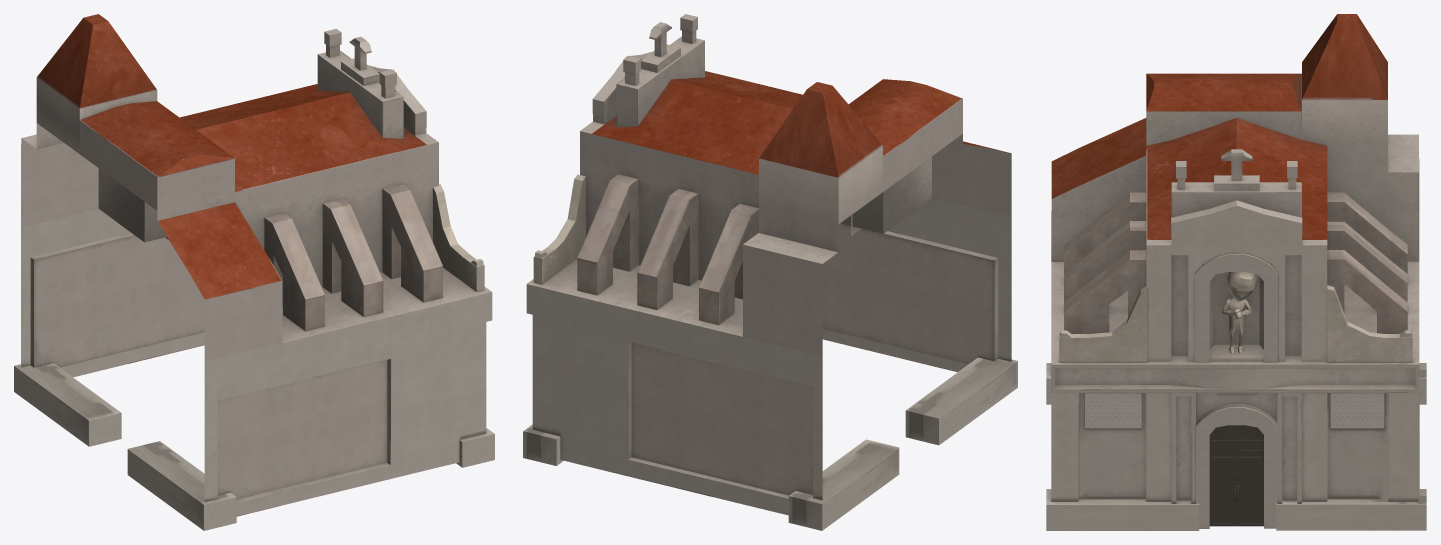
The model's file is Bat_VieuxPort_7.fbx.
The picture shows the model from 3 angles, left to right: view 1: azimuth 30°, elevation 25°; view 2: azimuth 150°, elevation 25°; view 3: azimuth 270°, elevation 25°; orthographic projection. The views are drawn at different scales.
Parts seen in each view (by area): view 1: Bat_VieuxP_7; view 2: Bat_VieuxP_7; view 3: Bat_VieuxP_7.
Part boxes in pixels (box(x1,y1,x2,y2)): Bat_VieuxP_7: box(14, 14, 494, 530); Bat_VieuxP_7: box(523, 14, 1017, 530); Bat_VieuxP_7: box(1046, 14, 1426, 530).
Bounding box in the file's own units: 1017 × 1309 × 1151.
